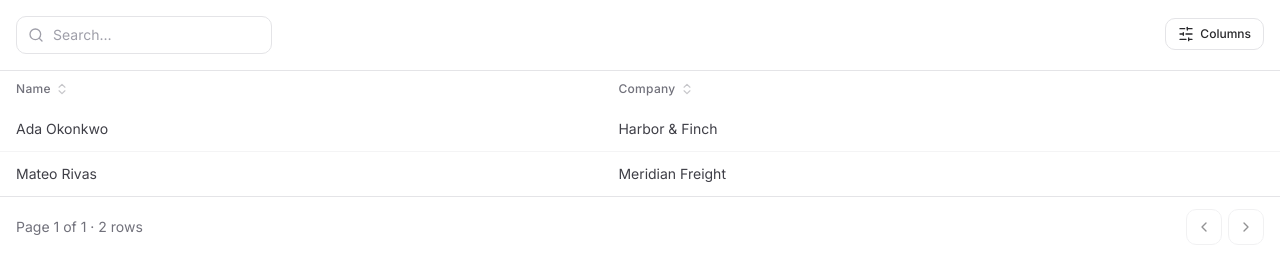
Test case: DataTable (leads-style table) › filters rows by the global search box
The width and height of the screenshot is (1280, 262).
Type "Ada" into the field named "Search table" at (144, 35), box [16,16,272,54]
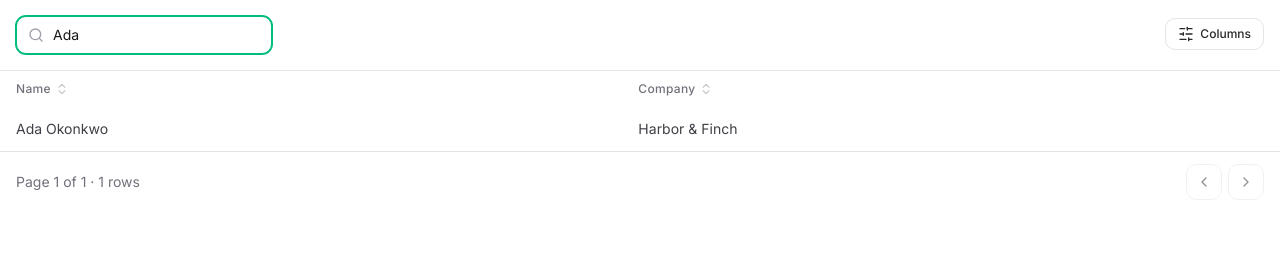
Check: the text "Ada Okonkwo" is shown, box [0,107,622,151]
Check: the text "Mateo Rivas" is gone
